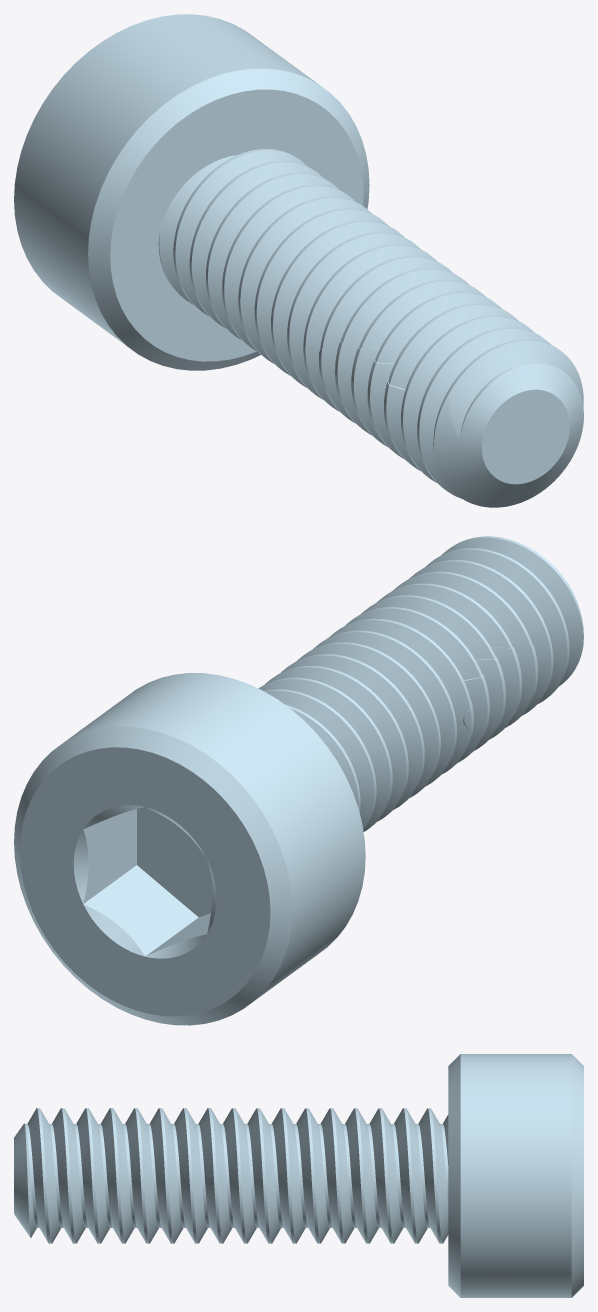
3 views of the same model, one above another, from view 1: azimuth 30°, elevation 25°; view 2: azimuth 150°, elevation 25°; view 3: azimuth 270°, elevation 25° (orthographic). The views are drawn at different scales.
Parts seen in each view (by area): view 1: mesh10970, mesh10974, mesh10972, mesh10973, mesh10950, mesh10948, mesh10947, mesh10971, mesh10954, mesh10966, mesh10958, mesh10962 (+5 smaller); view 2: mesh10976, mesh10974, mesh10968, mesh10975, mesh10952, mesh10985, mesh10981, mesh10971, mesh10983, mesh10956, mesh10964, mesh10960 (+8 smaller); view 3: mesh10974, mesh10968, mesh10970, mesh10971, mesh10969, mesh10952, mesh10950, mesh10975, mesh10973, mesh10949, mesh10948, mesh10956 (+15 smaller).
Part boxes in pixels (box(x1,y1,x2,y2)): mesh10970: box(159, 150, 453, 411); mesh10974: box(14, 14, 318, 348); mesh10972: box(110, 89, 363, 361); mesh10973: box(88, 68, 369, 370); mesh10950: box(391, 317, 583, 498); mesh10948: box(434, 363, 583, 507); mesh10947: box(482, 389, 569, 484); mesh10971: box(158, 149, 441, 405); mesh10954: box(379, 305, 518, 459); mesh10966: box(324, 269, 469, 423); mesh10958: box(364, 293, 501, 447); mesh10962: box(345, 281, 485, 435); mesh10976: box(20, 747, 270, 1016); mesh10974: box(65, 673, 365, 1004); mesh10968: box(259, 608, 480, 831); mesh10975: box(14, 726, 292, 1025); mesh10952: box(409, 538, 583, 727); mesh10985: box(137, 807, 212, 917); mesh10981: box(83, 865, 198, 956); mesh10971: box(259, 618, 471, 830); mesh10983: box(83, 809, 136, 903); mesh10956: box(393, 573, 529, 739); mesh10964: box(361, 596, 493, 762); mesh10960: box(377, 585, 510, 751); mesh10974: box(460, 1054, 571, 1297); mesh10968: box(187, 1109, 448, 1243); mesh10970: box(198, 1108, 448, 1242); mesh10971: box(208, 1108, 442, 1243); mesh10969: box(196, 1124, 448, 1227); mesh10952: box(24, 1109, 109, 1243); mesh10950: box(27, 1108, 96, 1242); mesh10975: box(571, 1054, 583, 1297); mesh10973: box(448, 1054, 460, 1297); mesh10949: box(37, 1108, 100, 1243); mesh10948: box(14, 1123, 30, 1237); mesh10956: box(114, 1110, 134, 1243).
Size of the model in its own units: 0.0045 by 0.00449 by 0.0105.
